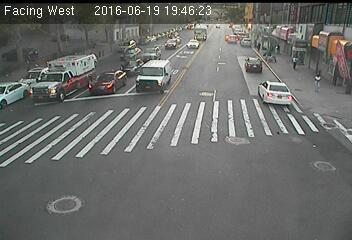neg: (150, 70, 178, 107), (192, 22, 220, 59), (43, 132, 69, 166), (187, 173, 212, 207), (198, 93, 223, 125), (282, 119, 306, 150), (54, 186, 77, 218), (126, 49, 149, 80), (244, 49, 263, 76), (267, 87, 285, 111), (292, 167, 308, 188), (228, 134, 241, 151)
pos: (309, 68, 327, 93), (288, 52, 302, 71)
